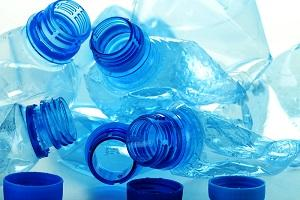LDPE: (3, 172, 63, 200), (208, 175, 266, 200), (126, 177, 184, 200)
PETE: (127, 110, 300, 178), (89, 15, 196, 110), (0, 0, 89, 96), (0, 96, 77, 176), (83, 121, 138, 187)
